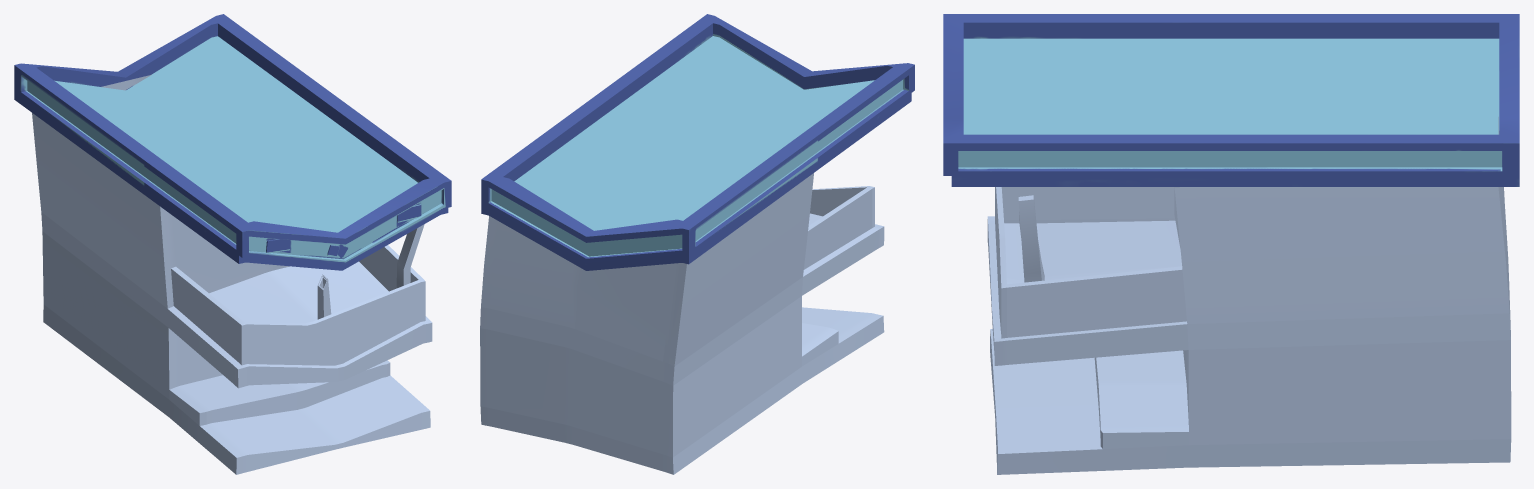
The model's file is destroyed building 3.fbx.
The picture shows the model from 3 angles, left to right: view 1: azimuth 30°, elevation 25°; view 2: azimuth 150°, elevation 25°; view 3: azimuth 270°, elevation 25°; orthographic projection. The views are drawn at different scales.
Visible parts, largest first — view 1: immeuble_5, immeuble_1:immeuble_1:polySurface2; view 2: immeuble_5, immeuble_1:immeuble_1:polySurface2; view 3: immeuble_5, immeuble_1:immeuble_1:polySurface2.
Boxes of the visible parts, left/top/right/bottom form: immeuble_5: left=32, top=74, right=432, bottom=474; immeuble_1:immeuble_1:polySurface2: left=14, top=14, right=451, bottom=270; immeuble_5: left=480, top=173, right=884, bottom=474; immeuble_1:immeuble_1:polySurface2: left=481, top=14, right=914, bottom=270; immeuble_5: left=987, top=117, right=1511, bottom=474; immeuble_1:immeuble_1:polySurface2: left=943, top=14, right=1519, bottom=186.
Bounding box in the file's own units: 4534 × 5138 × 8092.
